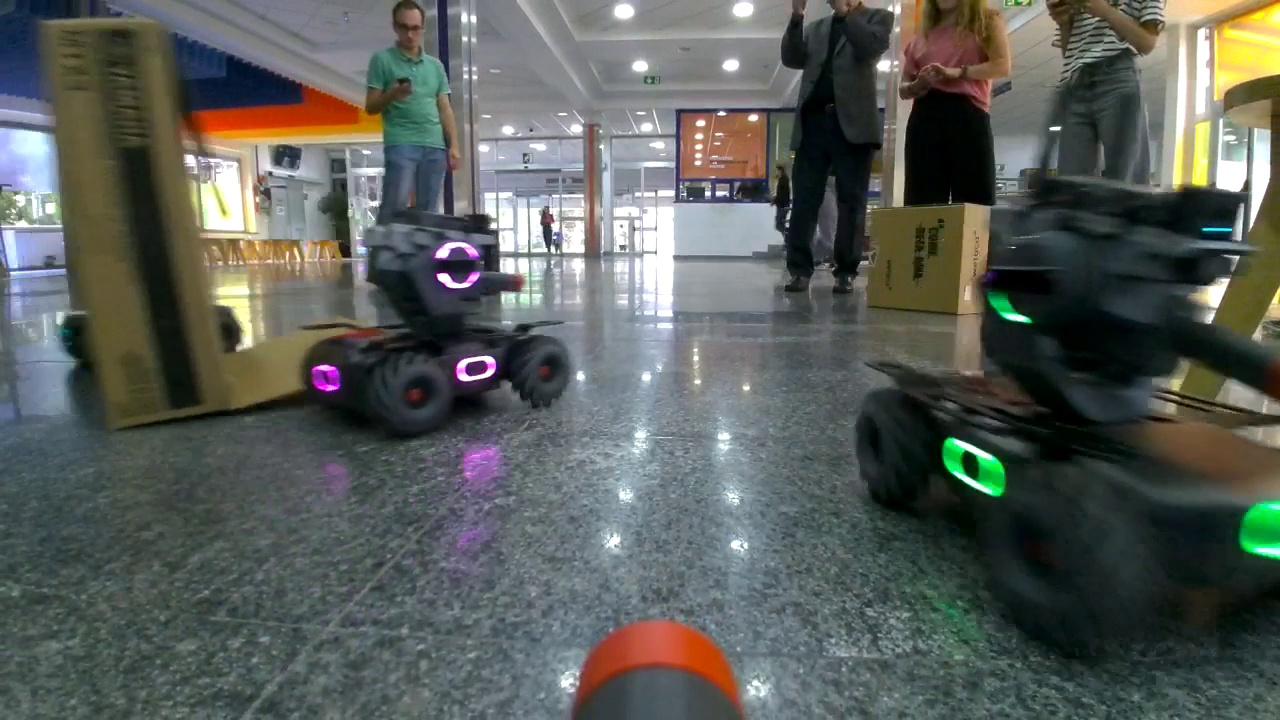robot: (858, 183, 1280, 659), (294, 205, 573, 443)
